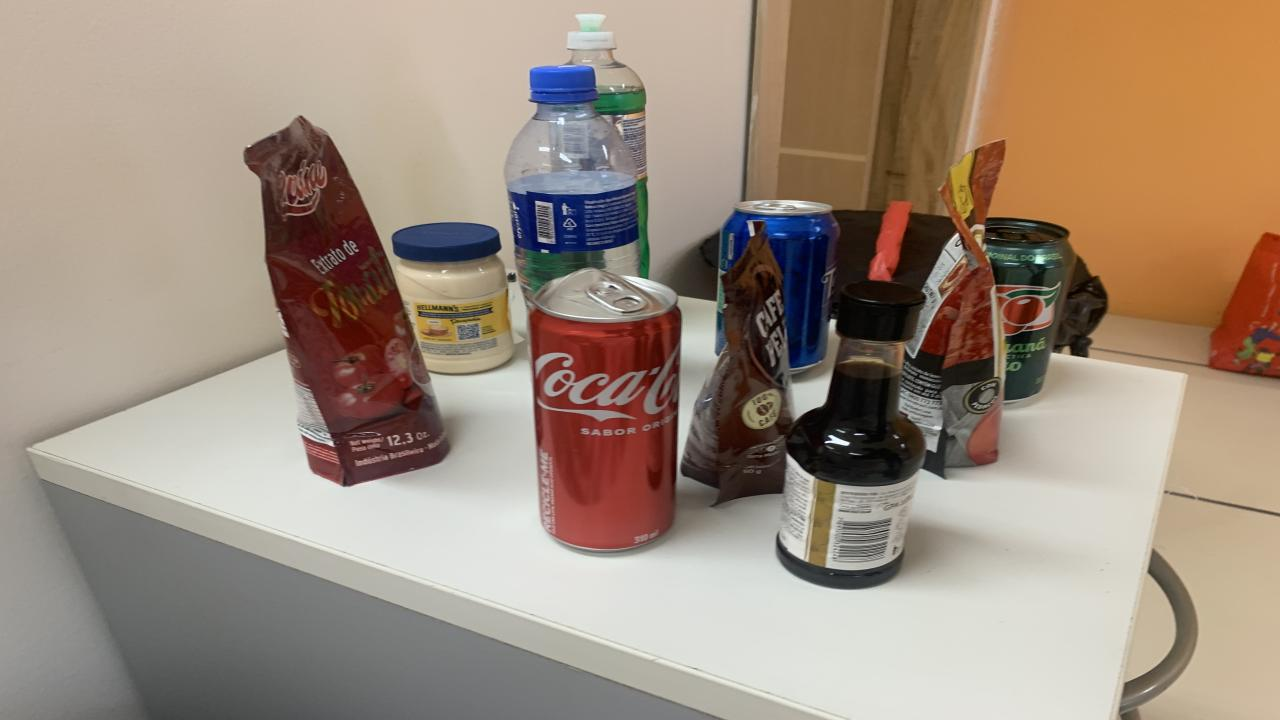Coffee-Pantry_Items: (680, 221, 795, 504)
Coke-Drinks: (528, 268, 682, 551)
Detergent-Cleanup_Items: (568, 15, 650, 278)
English_Sauce-Pantry_Items: (778, 281, 925, 589)
Guarana_Can-Drinks: (985, 218, 1075, 409)
Mayonnaise-Pantry_Items: (392, 223, 515, 373)
Tomato_Sauce-Pantry_Items: (245, 116, 450, 486), (900, 141, 1005, 474)
Tonic-Drinks: (718, 201, 840, 369)
Water_Bottle-Drinks: (505, 66, 640, 304)
